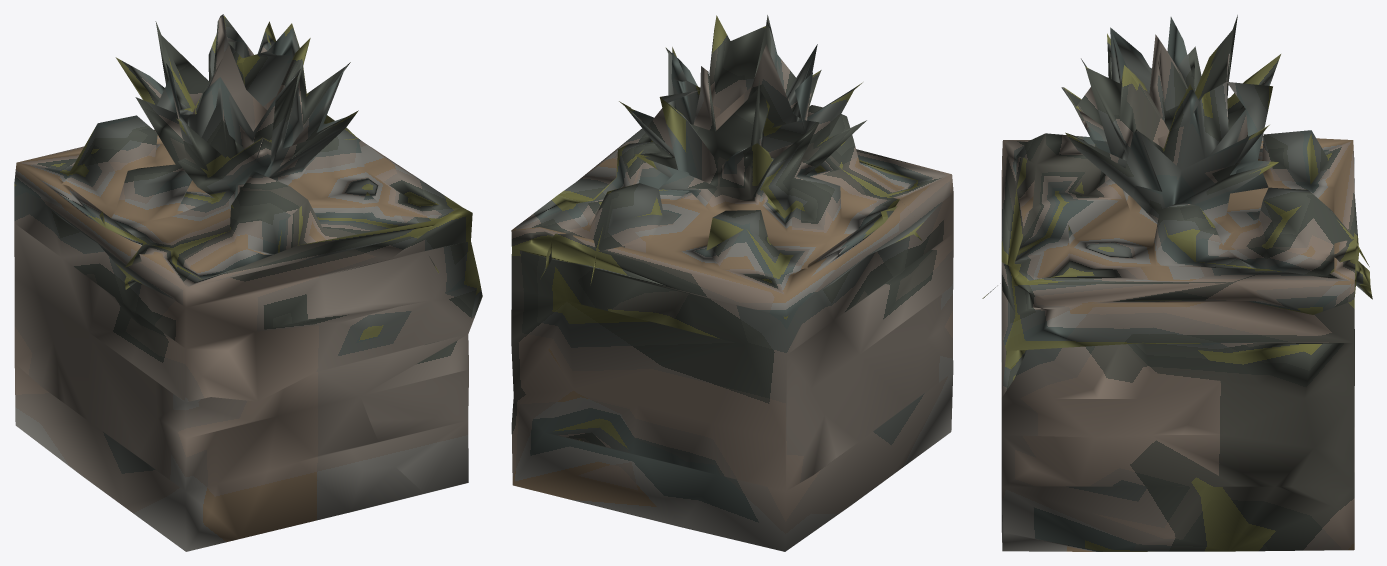
File: planter_lux.glb
3 views of the same model, side by side, from view 1: azimuth 30°, elevation 25°; view 2: azimuth 150°, elevation 25°; view 3: azimuth 270°, elevation 25° (orthographic). The views are drawn at different scales.
Parts seen in each view (by area): view 1: LO; view 2: LO; view 3: LO.
Part boxes in pixels (bbox=[...]): LO: bbox=[14, 14, 482, 551]; LO: bbox=[511, 15, 953, 551]; LO: bbox=[982, 15, 1372, 551].
Size of the model in its own units: 1.2 by 1.55 by 1.25.
1 material, 1 textured.
